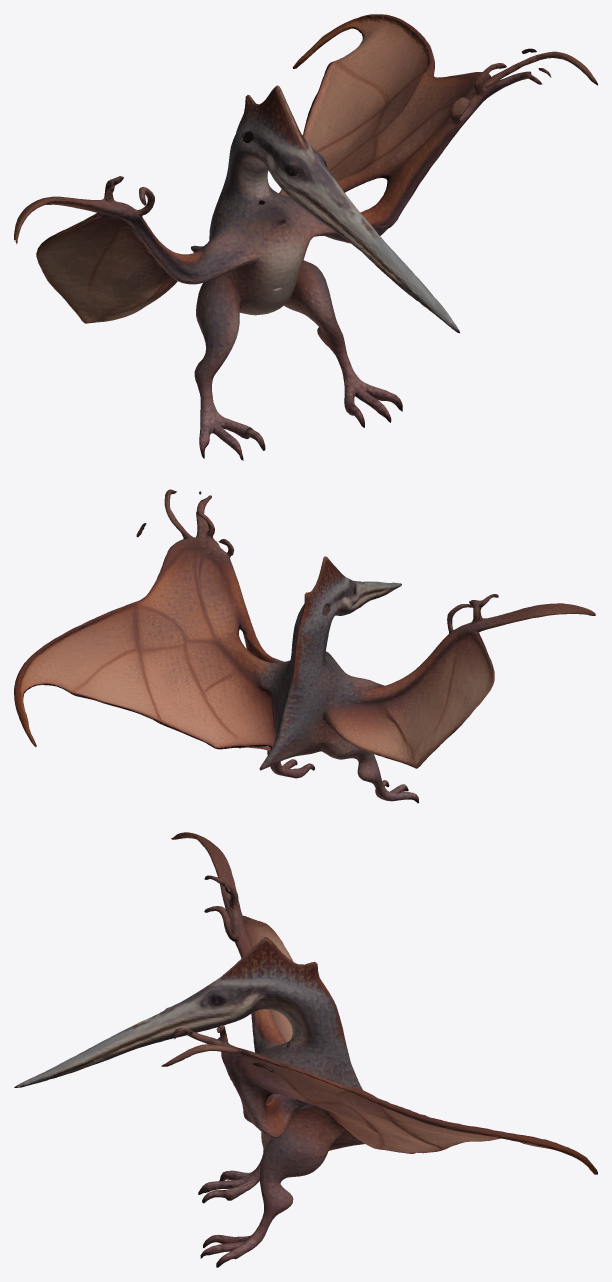
3 renders of one model, top to bottom at view 1: azimuth 30°, elevation 25°; view 2: azimuth 150°, elevation 25°; view 3: azimuth 270°, elevation 25°, orthographic. The views are drawn at different scales.
Parts seen in each view (by area): view 1: world; view 2: world; view 3: world.
Boxes of the visible parts, box(x1,y1,x2,y2) form: world: box(14, 14, 597, 460); world: box(14, 489, 595, 803); world: box(14, 832, 597, 1267).
Bounding box in the file's own units: 1 × 0.546 × 0.9974.
1 material, 1 textured.
